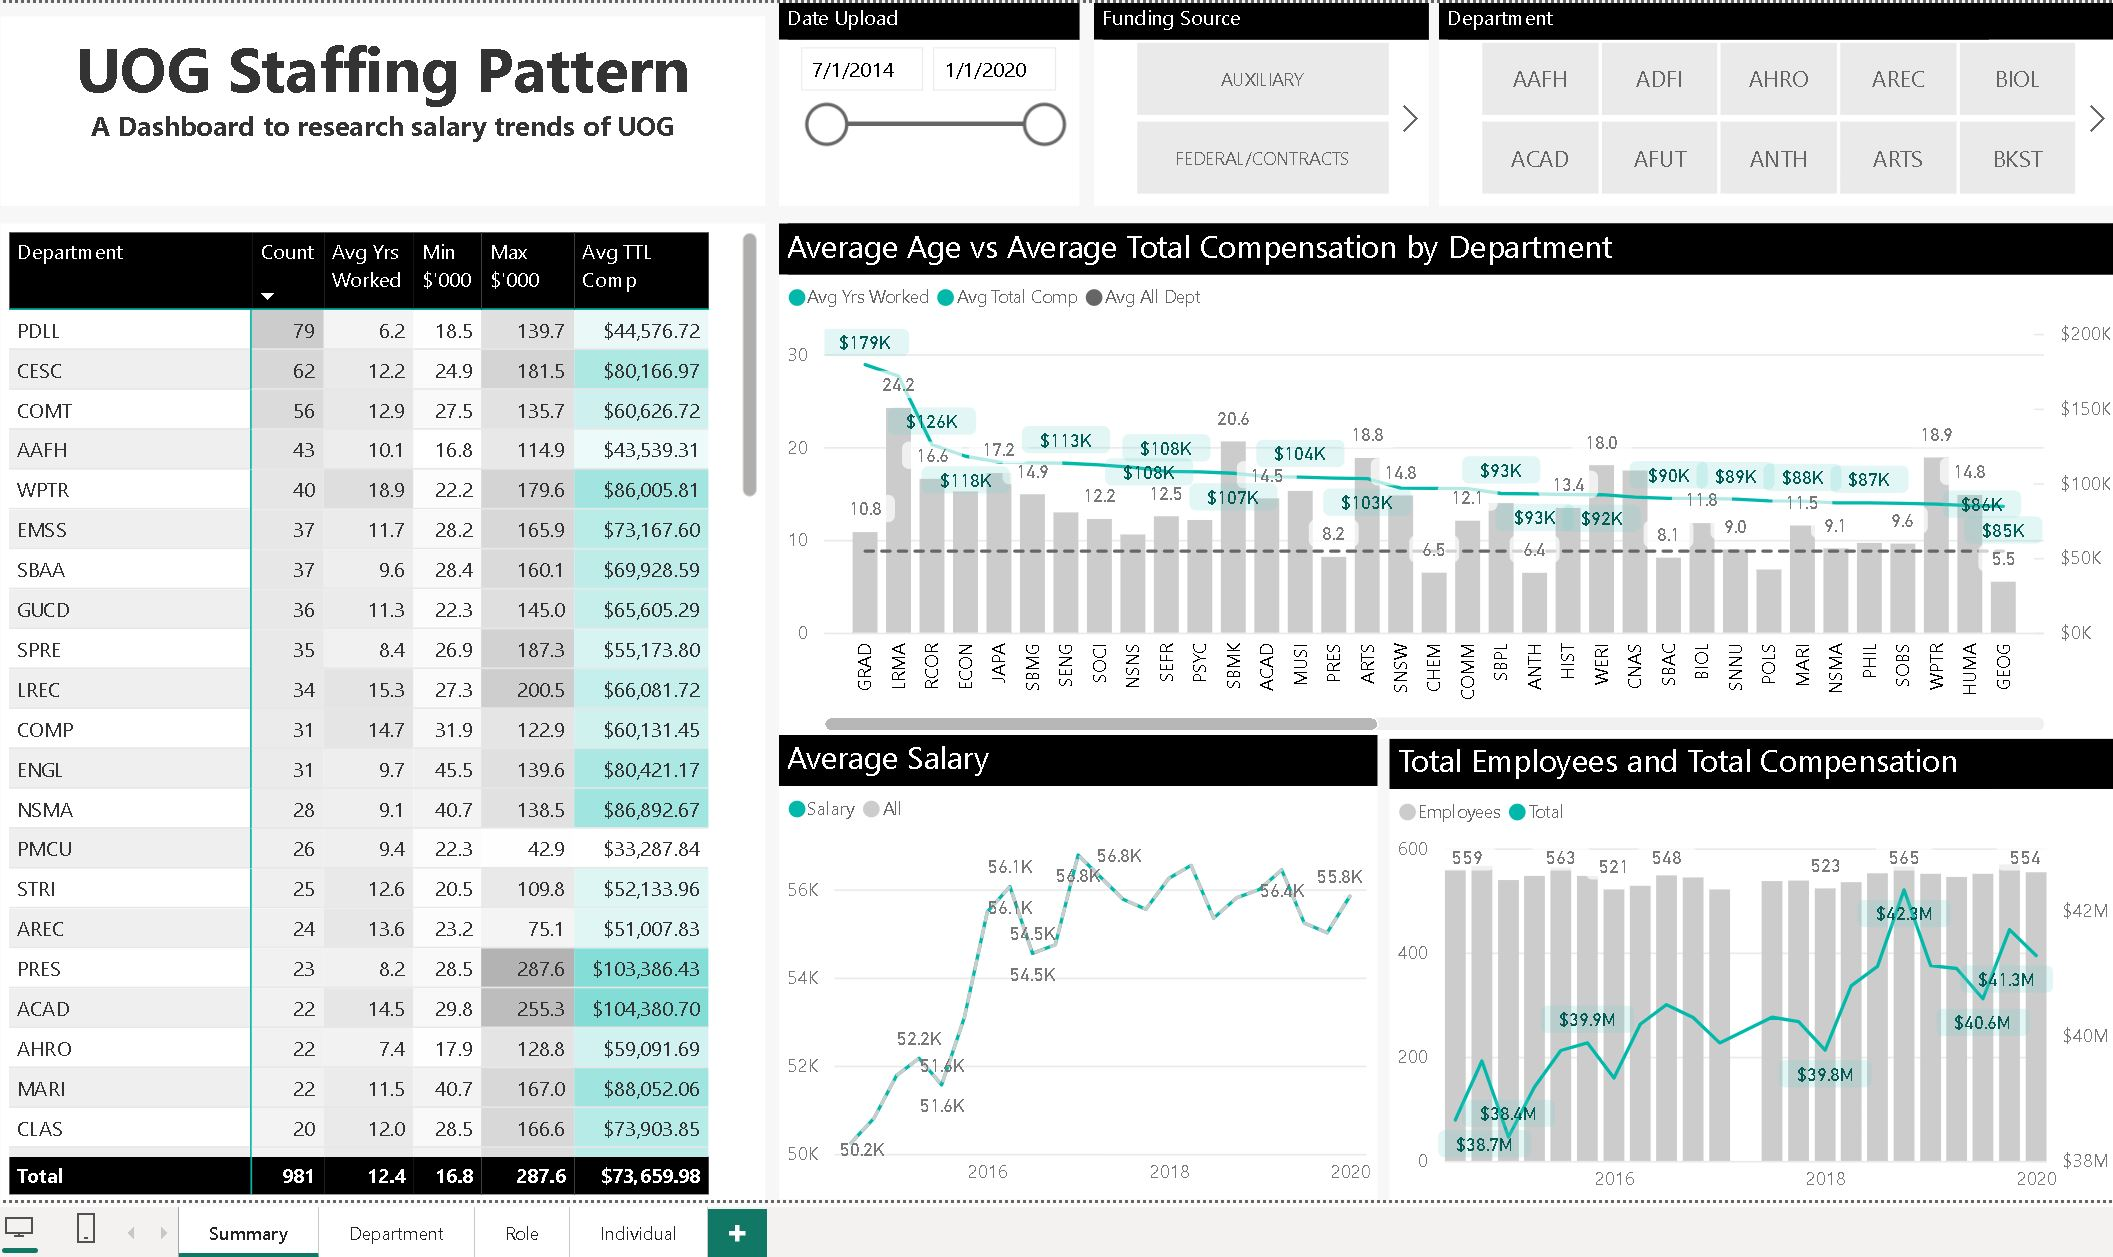

This screenshot's page, from the dashboard's own definition file:
{"tool":"powerbi","page":{"name":"Summary","canvas":[1280,720],"ordinal":0},"visuals":[{"type":"lineStackedColumnComboChart","title":"Total Employees and Total Compensation","fields":{"Y2":["Sum(pdf.TOTAL)"],"Y":["Count(pdf.Name)"],"Category":["pdf.Upload Date"]},"box":[843.5,441.9,437.9,282.1],"z":0},{"type":"pivotTable","fields":{"Rows":["pdf.Department","pdf.Title","pdf.Name"],"Values":["Count(pdf.Name)","Avg(pdf.TotalAge)","Min(pdf.Total_Thousands)","Max(pdf.Total_Thousands)1","Avg(pdf.TOTAL)1"]},"box":[8.1,122.1,513.9,599.9],"z":1000},{"type":"slicer","fields":{"Values":["pdf.Department"]},"box":[651,0,629,122.1],"z":2000},{"type":"lineClusteredColumnComboChart","title":"Average Age vs Average Total Compensation by Department","fields":{"Category":["pdf.Department","pdf.Title","pdf.Name"],"Y2":["Avg(pdf.TOTAL)","pdf.Total_Avg_All"],"Y":["Avg(pdf.TotalAge)"]},"box":[533.6,122.1,748.7,319.7],"z":3000},{"type":"slicer","fields":{"Values":["pdf.Local/Federal/Other Funds"]},"box":[392.2,0,259.2,61.8],"z":4000},{"type":"textbox","box":[0,0,392.2,61.8],"z":5000},{"type":"lineChart","title":"Average Total Compensation","fields":{"Category":["pdf.Upload Date"],"Y":["Avg(pdf.TOTAL)","Avg(pdf.SUBTOTAL)","pdf.Total_Avg_All"]},"box":[533.2,441.9,299.5,279.4],"z":6000},{"type":"slicer","fields":{"Values":["pdf.Upload Date"]},"box":[0,61.6,651,60.5],"z":7000}]}

Visuals, with their boxes on the page's 1280x720 design canvas (x1, y1, x2, y2). These are canvas units, not pixel positions in the 2113x1257 screenshot, which may show the page scaled, cropped or inside an application window:
"Total Employees and Total Compensation" lineStackedColumnComboChart: bbox=[844, 442, 1281, 724]
pivotTable - pdf.Department x pdf.Title: bbox=[8, 122, 522, 722]
slicer - pdf.Department: bbox=[651, 0, 1280, 122]
"Average Age vs Average Total Compensation by Department" lineClusteredColumnComboChart: bbox=[534, 122, 1282, 442]
slicer - pdf.Local/Federal/Other Funds: bbox=[392, 0, 651, 62]
textbox: bbox=[0, 0, 392, 62]
"Average Total Compensation" lineChart: bbox=[533, 442, 833, 721]
slicer - pdf.Upload Date: bbox=[0, 62, 651, 122]
